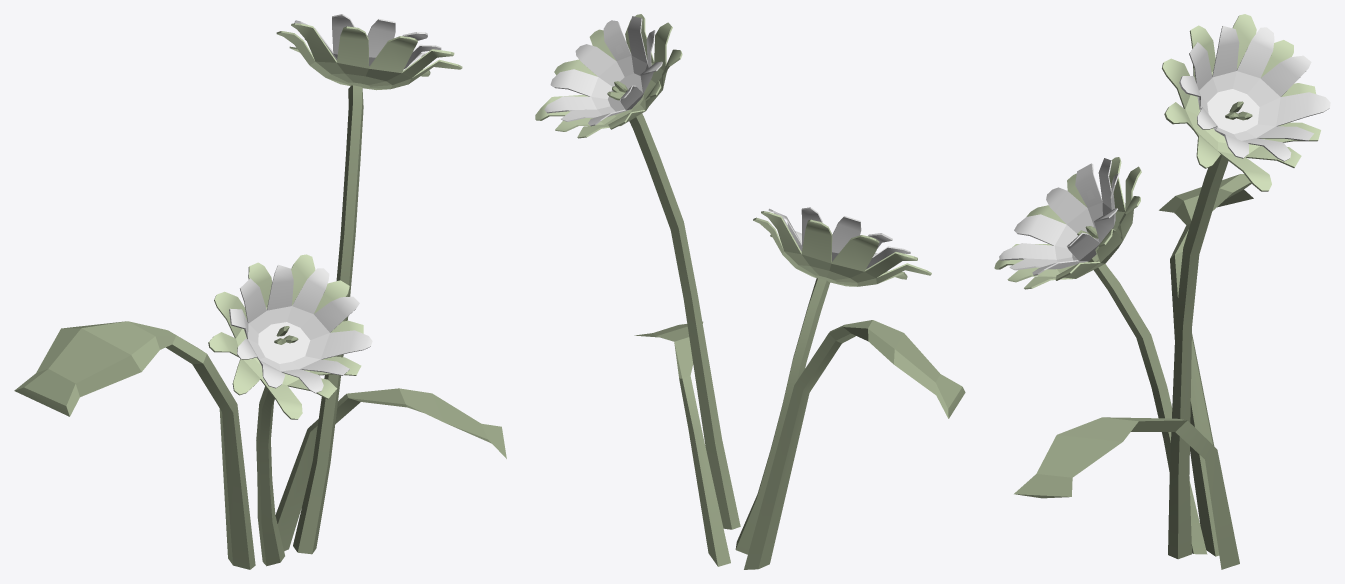
File: Cereus_new.fbx
The picture shows the model from 3 angles, left to right: view 1: azimuth 30°, elevation 25°; view 2: azimuth 150°, elevation 25°; view 3: azimuth 270°, elevation 25°; orthographic projection. The views are drawn at different scales.
Visible parts, largest first — view 1: CereusStem, CereusBase; view 2: CereusStem, CereusBase; view 3: CereusStem, CereusBase, CerusPollen.
Part boxes in pixels (left/top/right/bottom): CereusStem: left=14, top=23, right=506, bottom=569; CereusBase: left=229, top=14, right=441, bottom=393; CereusStem: left=535, top=14, right=965, bottom=569; CereusBase: left=544, top=16, right=910, bottom=269; CereusStem: left=994, top=14, right=1320, bottom=569; CereusBase: left=999, top=26, right=1330, bottom=275; CerusPollen: left=1077, top=101, right=1252, bottom=238.
Size of the model in its own units: 16.55 by 19.63 by 10.32.
